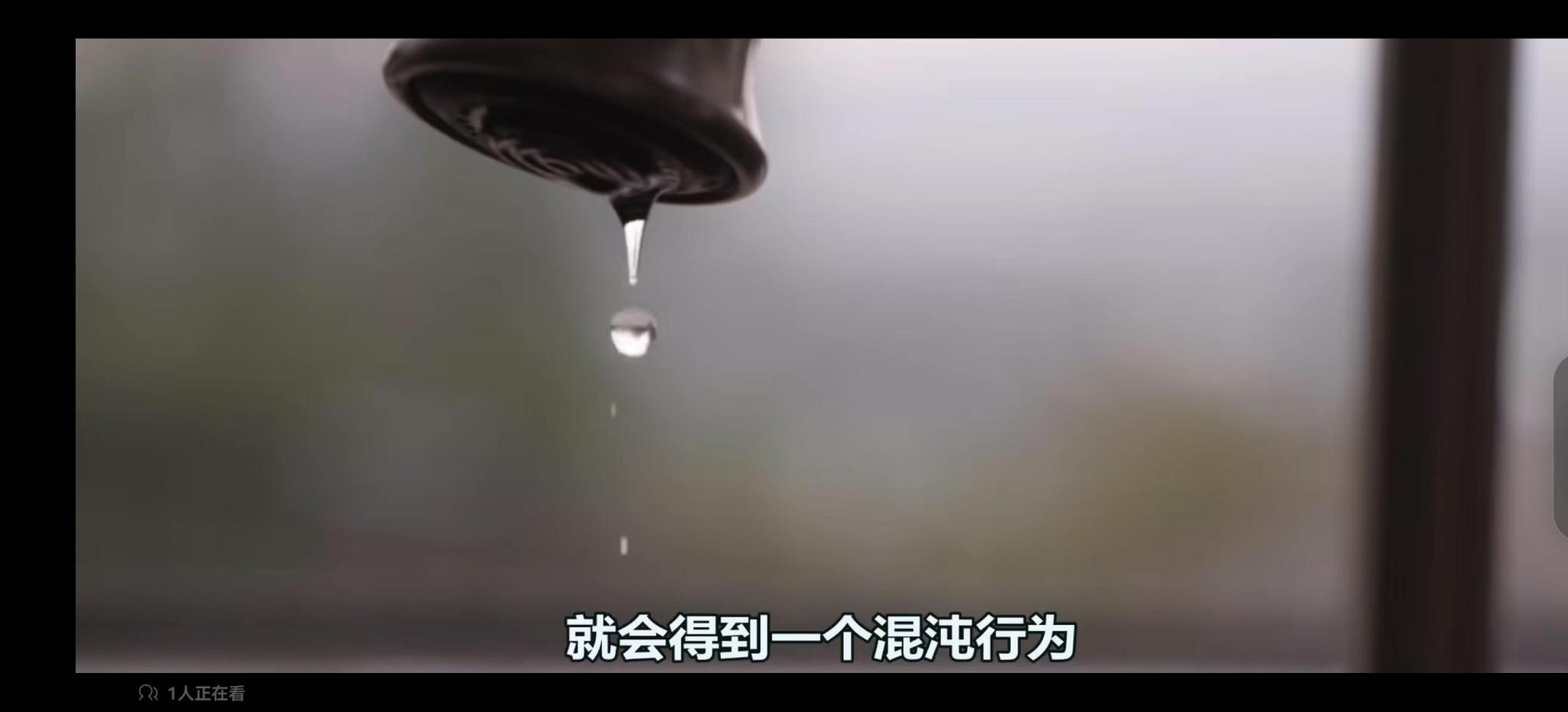water drop: (608, 183, 658, 290), (605, 308, 662, 363)
